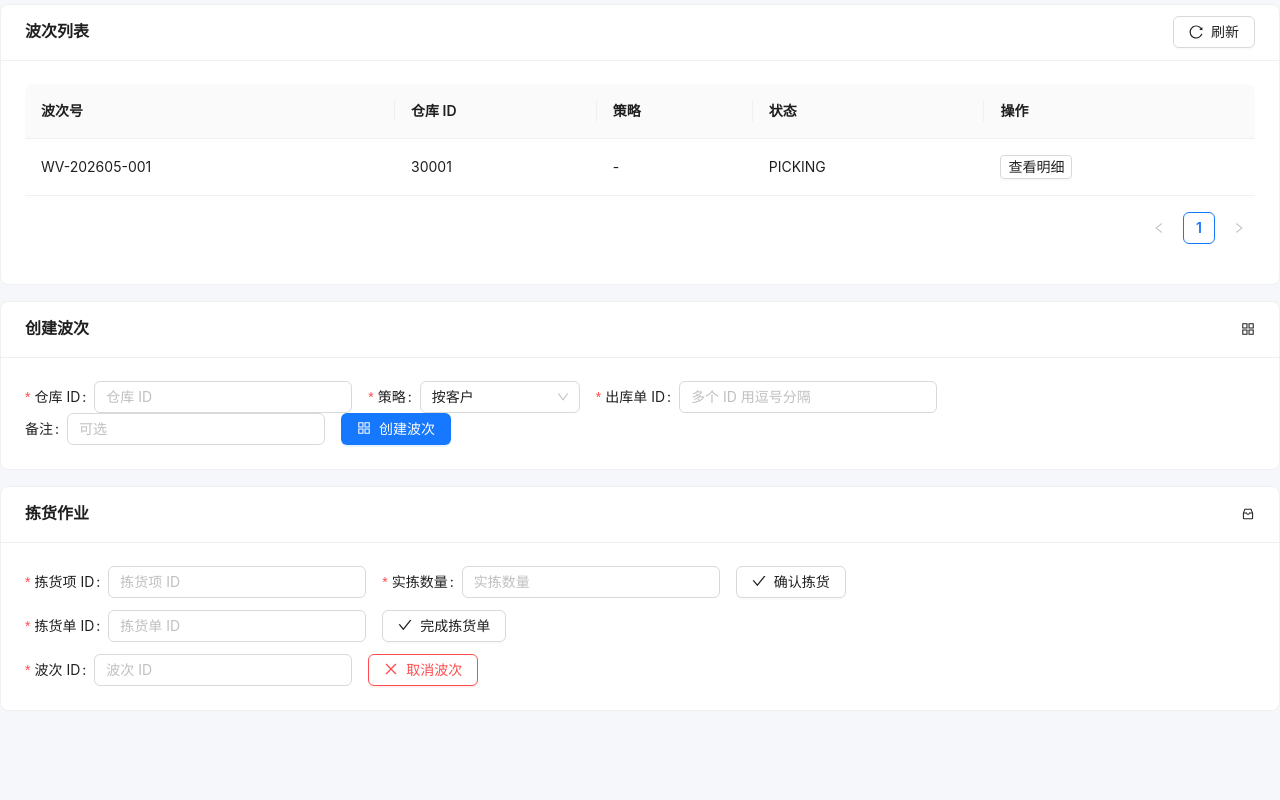
WavePickingPage › loads waves and opens wave detail
This screenshot has width=1280, height=800.
Expected: the text "WV-202605-001" is shown, top-left (25, 138), bottom-right (395, 196)
Step 1. Click the button "查看明细" → (1036, 166), box top-left (1000, 154), bottom-right (1072, 178)
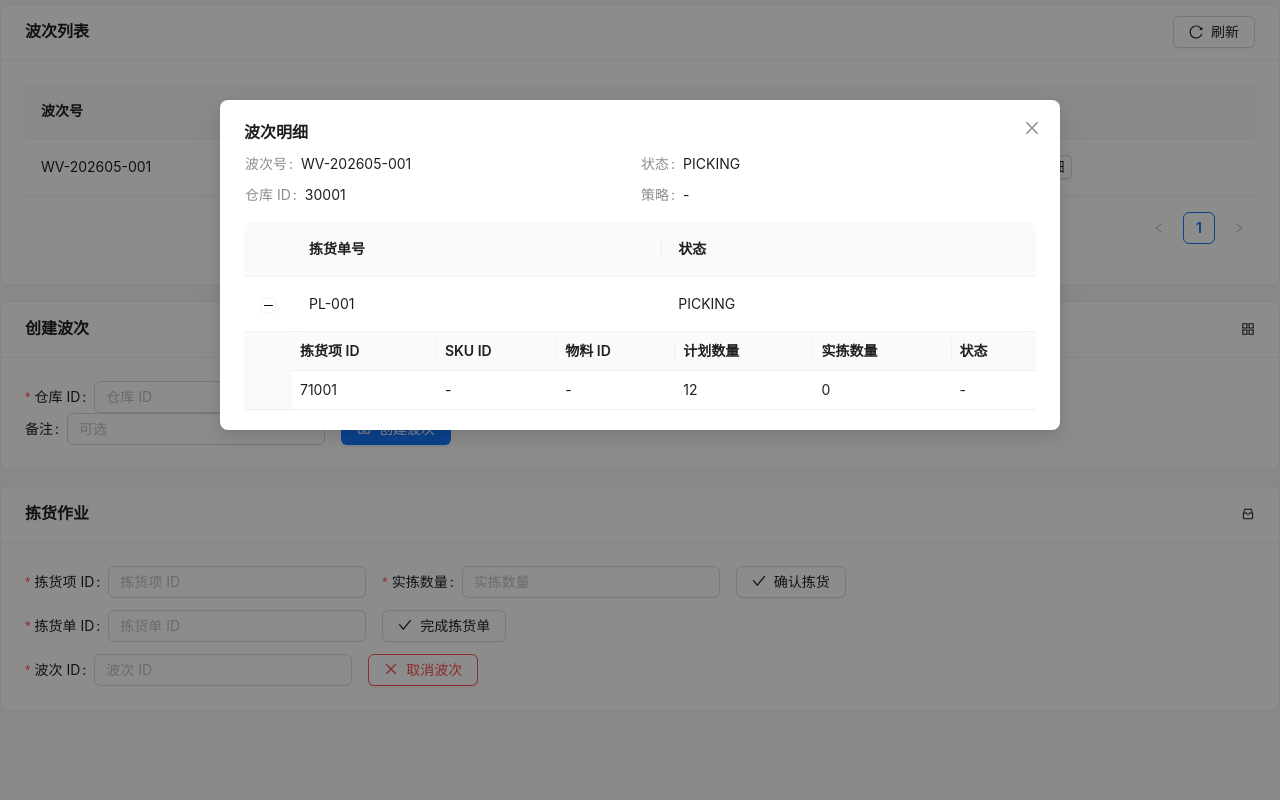
Expected: the text "PL-001" is shown, top-left (293, 277), bottom-right (662, 332)
Expected: the text "71001" is shown, top-left (292, 371), bottom-right (437, 409)
